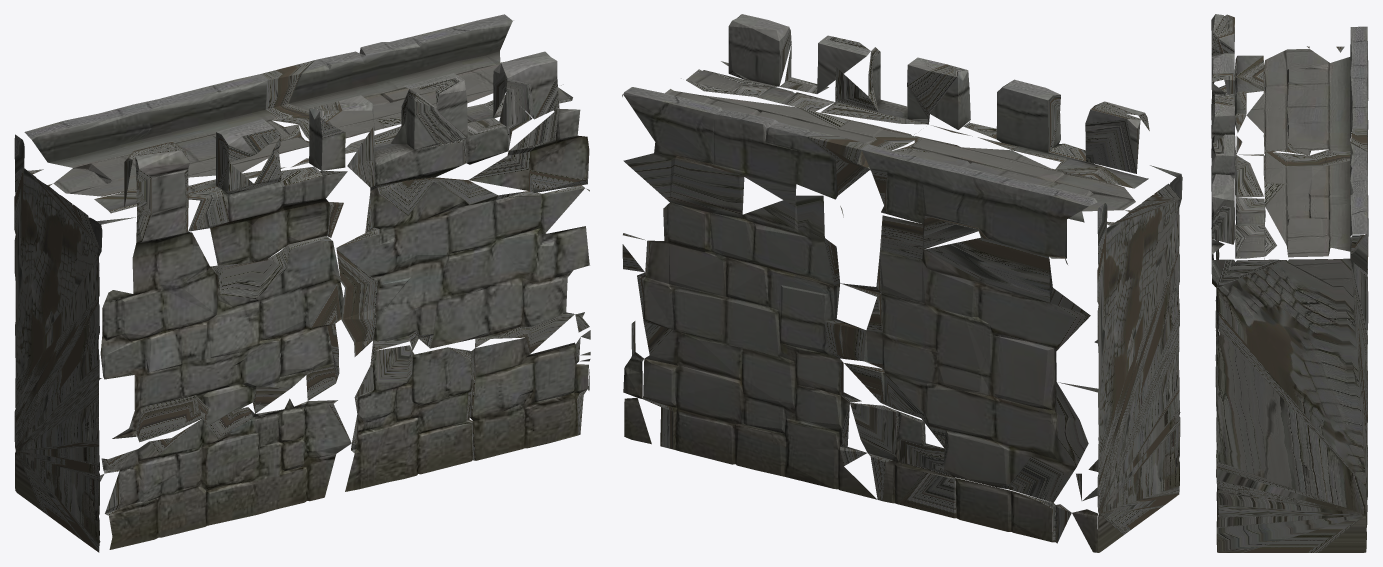
Rendered from bld_wall_section_walkway_a_LOD1.glb.
3 views of the same model, side by side, from view 1: azimuth 30°, elevation 25°; view 2: azimuth 150°, elevation 25°; view 3: azimuth 270°, elevation 25° (orthographic). The views are drawn at different scales.
Parts seen in each view (by area): view 1: geometry_0; view 2: geometry_0; view 3: geometry_0.
Part boxes in pixels (left/top/right/bottom): geometry_0: left=14, top=14, right=590, bottom=552; geometry_0: left=622, top=14, right=1182, bottom=552; geometry_0: left=1211, top=14, right=1368, bottom=552.
Size of the model in its own units: 8 by 6 by 2.5.
Materials: 1 (1 with a texture image).
